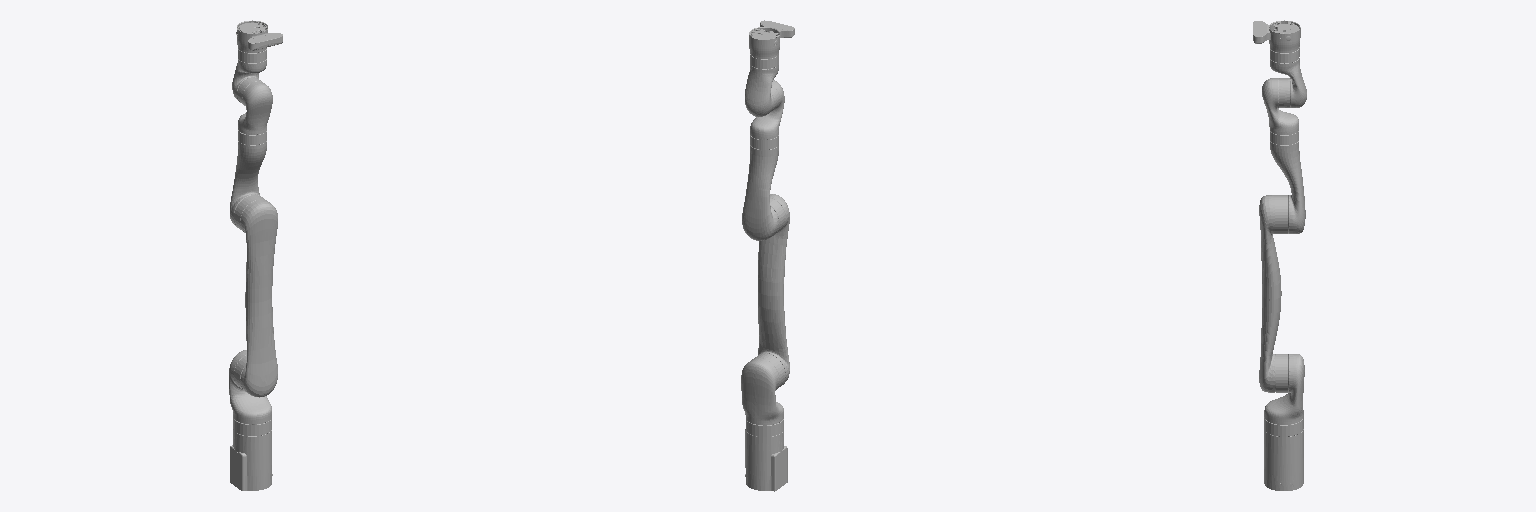
URDF robot description (GEN3-6DOF_VISION_URDF_ARM_V01):
<robot name="GEN3-6DOF_VISION_URDF_ARM_V01" version="1.0">
  <link name="base_link">
    <inertial>
      <origin xyz="-0.000648 -0.000166 0.084487" rpy="0 0 0" />
      <mass value="1.697" />
      <inertia ixx="0.004622" ixy="9E-06" ixz="6E-05" iyy="0.004495" iyz="9E-06" izz="0.002079" />
    </inertial>
    <visual>
      <origin xyz="0 0 0" rpy="0 0 0" />
      <geometry>
        <mesh filename="../meshes/base_link.obj" />
      </geometry>
      <material name="">
        <color rgba="0.75294 0.75294 0.75294 1" />
      </material>
    </visual>
    <collision>
      <origin xyz="0 0 0" rpy="0 0 0" />
      <geometry>
        <mesh filename="../meshes/base_link.obj" />
      </geometry>
    </collision>
  </link>
  <link name="shoulder_link">
    <inertial>
      <origin xyz="-2.3E-05 -0.010364 -0.07336" rpy="0 0 0" />
      <mass value="1.377" />
      <inertia ixx="0.00457" ixy="1E-06" ixz="2E-06" iyy="0.004831" iyz="0.000448" izz="0.001409" />
    </inertial>
    <visual>
      <origin xyz="0 0 0" rpy="0 0 0" />
      <geometry>
        <mesh filename="../meshes/shoulder_link.obj" />
      </geometry>
      <material name="">
        <color rgba="0.75294 0.75294 0.75294 1" />
      </material>
    </visual>
    <collision>
      <origin xyz="0 0 0" rpy="0 0 0" />
      <geometry>
        <mesh filename="../meshes/shoulder_link.obj" />
      </geometry>
    </collision>
  </link>
  <joint name="Actuator1" type="continuous">
    <origin xyz="0 0 0.15643" rpy="-3.1416 0.0 0.0" />
    <parent link="base_link" />
    <child link="shoulder_link" />
    <axis xyz="0 0 1" />
    <limit effort="39" velocity="0.8727" />
  </joint>
  <link name="bicep_link">
    <inertial>
      <origin xyz="3.5E-05 -0.208207 -0.01889" rpy="0 0 0" />
      <mass value="1.262" />
      <inertia ixx="0.046752" ixy="-9E-06" ixz="0" iyy="0.00085" iyz="-9.8E-05" izz="0.047188" />
    </inertial>
    <visual>
      <origin xyz="0 0 0" rpy="0 0 0" />
      <geometry>
        <mesh filename="../meshes/bicep_link.obj" />
      </geometry>
      <material name="">
        <color rgba="0.75294 0.75294 0.75294 1" />
      </material>
    </visual>
    <collision>
      <origin xyz="0 0 0" rpy="0 0 0" />
      <geometry>
        <mesh filename="../meshes/bicep_link.obj" />
      </geometry>
    </collision>
  </link>
  <joint name="Actuator2" type="revolute">
    <origin xyz="0 0.005375 -0.12838" rpy="1.5708 0.0 0.0" />
    <parent link="shoulder_link" />
    <child link="bicep_link" />
    <axis xyz="0 0 1" />
    <limit lower="-2.41" upper="2.41" effort="39" velocity="0.8727" />
  </joint>
  <link name="forearm_link">
    <inertial>
      <origin xyz="1.8E-05 0.076168 -0.01397" rpy="0 0 0" />
      <mass value="0.93" />
      <inertia ixx="0.008292" ixy="-1E-06" ixz="0" iyy="0.000628" iyz="0.000432" izz="0.008464" />
    </inertial>
    <visual>
      <origin xyz="0 0 0" rpy="0 0 0" />
      <geometry>
        <mesh filename="../meshes/forearm_link.obj" />
      </geometry>
      <material name="">
        <color rgba="0.75294 0.75294 0.75294 1" />
      </material>
    </visual>
    <collision>
      <origin xyz="0 0 0" rpy="0 0 0" />
      <geometry>
        <mesh filename="../meshes/forearm_link.obj" />
      </geometry>
    </collision>
  </link>
  <joint name="Actuator3" type="revolute">
    <origin xyz="0 -0.41 0" rpy="3.1416 0 0" />
    <parent link="bicep_link" />
    <child link="forearm_link" />
    <axis xyz="0 0 1" />
    <limit lower="-2.66" upper="2.66" effort="39" velocity="0.8727" />
  </joint>
  <link name="spherical_wrist_1_link">
    <inertial>
      <origin xyz="-1E-06 0.008486 -0.062937" rpy="0 0 0" />
      <mass value="0.6781" />
      <inertia ixx="0.001645" ixy="0" ixz="0" iyy="0.001666" iyz="-0.000234" izz="0.000389" />
    </inertial>
    <visual>
      <origin xyz="0 0 0" rpy="0 0 0" />
      <geometry>
        <mesh filename="../meshes/spherical_wrist_1_link.obj" />
      </geometry>
      <material name="">
        <color rgba="0.75294 0.75294 0.75294 1" />
      </material>
    </visual>
    <collision>
      <origin xyz="0 0 0" rpy="0 0 0" />
      <geometry>
        <mesh filename="../meshes/spherical_wrist_1_link.obj" />
      </geometry>
    </collision>
  </link>
  <joint name="Actuator4" type="continuous">
    <origin xyz="0 0.20843 -0.006375" rpy="1.5708 0.0 0.0" />
    <parent link="forearm_link" />
    <child link="spherical_wrist_1_link" />
    <axis xyz="0 0 1" />
    <limit effort="9" velocity="0.8727" />
  </joint>
  <link name="spherical_wrist_2_link">
    <inertial>
      <origin xyz="-1E-06 0.046429 -0.008704" rpy="0 0 0" />
      <mass value="0.678" />
      <inertia ixx="0.001685" ixy="0" ixz="0" iyy="0.0004" iyz="0.000255" izz="0.001696" />
    </inertial>
    <visual>
      <origin xyz="0 0 0" rpy="0 0 0" />
      <geometry>
        <mesh filename="../meshes/spherical_wrist_2_link.obj" />
      </geometry>
      <material name="">
        <color rgba="0.75294 0.75294 0.75294 1" />
      </material>
    </visual>
    <collision>
      <origin xyz="0 0 0" rpy="0 0 0" />
      <geometry>
        <mesh filename="../meshes/spherical_wrist_2_link.obj" />
      </geometry>
    </collision>
  </link>
  <joint name="Actuator5" type="revolute">
    <origin xyz="0 -0.00017505 -0.10593" rpy="-1.5708 0.0 0.0" />
    <parent link="spherical_wrist_1_link" />
    <child link="spherical_wrist_2_link" />
    <axis xyz="0 0 1" />
    <limit lower="-2.23" upper="2.23" effort="9" velocity="0.8727" />
  </joint>
  <link name="bracelet_with_vision_link">
    <inertial>
      <origin xyz="0.000281 0.011402 -0.029798" rpy="0 0 0" />
      <mass value="0.5" />
      <inertia ixx="0.000587" ixy="3E-06" ixz="3E-06" iyy="0.000369" iyz="-0.000118" izz="0.000609" />
    </inertial>
    <visual>
      <origin xyz="0 0 0" rpy="0 0 0" />
      <geometry>
        <mesh filename="../meshes/bracelet_with_vision_link.obj" />
      </geometry>
      <material name="">
        <color rgba="0.75294 0.75294 0.75294 1" />
      </material>
    </visual>
    <collision>
      <origin xyz="0 0 0" rpy="0 0 0" />
      <geometry>
        <mesh filename="../meshes/bracelet_with_vision_link.obj" />
      </geometry>
    </collision>
  </link>
  <joint name="Actuator6" type="continuous">
    <origin xyz="0 0.10593 -0.00017505" rpy="1.5708 0.0 0.0" />
    <parent link="spherical_wrist_2_link" />
    <child link="bracelet_with_vision_link" />
    <axis xyz="0 0 1" />
    <limit effort="9" velocity="0.8727" />
  </joint>
  <link name="end_effector_link" />
    <!-- <inertial>
      <origin xyz="0 0 0" rpy="0 0 0" />
      <mass value="0" />
      <inertia ixx="0" ixy="0" ixz="0" iyy="0" iyz="0" izz="0" />
    </inertial>
    <visual>
      <origin xyz="0 0 0" rpy="0 0 0" />
      <geometry>
        <mesh filename="package://kortex_description/arms/gen3/6dof/meshes/EndEffector_Link.STL" />
      </geometry>
      <material name="">
        <color rgba="0.75294 0.75294 0.75294 1" />
      </material>
    </visual>
    <collision>
      <origin xyz="0 0 0" rpy="0 0 0" />
      <geometry>
        <mesh filename="package://kortex_description/arms/gen3/6dof/meshes/EndEffector_Link.STL" />
      </geometry>
    </collision>
  </link> -->
  <joint name="EndEffector" type="fixed">
    <origin xyz="0 0 -0.061525" rpy="3.1416 0 -3.1416" />
    <parent link="bracelet_with_vision_link" />
    <child link="end_effector_link" />
    <axis xyz="0 0 0" />
  </joint>

  <!-- Insert Transmission Tags -->
  <transmission name="Actuator1_transmission" >
        <type>transmission_interface/SimpleTransmission</type>
        <joint name="Actuator1" />
        <actuator name="motor_1" />
    </transmission>
    <transmission name="Actuator2_transmission" >
        <type>transmission_interface/SimpleTransmission</type>
        <joint name="Actuator2" />
        <actuator name="motor_2" />
    </transmission>
    <transmission name="Actuator3_transmission" >
        <type>transmission_interface/SimpleTransmission</type>
        <joint name="Actuator3" />
        <actuator name="motor_3" />
    </transmission>
    <transmission name="Actuator4_transmission" >
        <type>transmission_interface/SimpleTransmission</type>
        <joint name="Actuator4" />
        <actuator name="motor_4" />
    </transmission>
    <transmission name="Actuator5_transmission" >
        <type>transmission_interface/SimpleTransmission</type>
        <joint name="Actuator5" />
        <actuator name="motor_5" />
    </transmission>
    <transmission name="Actuator6_transmission" >
        <type>transmission_interface/SimpleTransmission</type>
        <joint name="Actuator6" />
        <actuator name="motor_6" />
    </transmission>
</robot>

--- Facts derived from the render (not from the file) ---
Views: 3 orthographic renders of the robot side by side, from view 1: azimuth 30°, elevation 25°; view 2: azimuth 150°, elevation 25°; view 3: azimuth 270°, elevation 25°.
Model GEN3-6DOF_VISION_URDF_ARM_V01 with 8 links and 7 joints (3 revolute, 3 continuous, 1 fixed), rooted at base_link, posed all joints at 0.
Visible links, largest first — view 1: bicep_link, base_link, forearm_link, shoulder_link, spherical_wrist_1_link, bracelet_with_vision_link, spherical_wrist_2_link; view 2: bicep_link, forearm_link, base_link, shoulder_link, spherical_wrist_2_link, bracelet_with_vision_link, spherical_wrist_1_link; view 3: bicep_link, base_link, shoulder_link, forearm_link, spherical_wrist_1_link, bracelet_with_vision_link, spherical_wrist_2_link.
Boxes of the visible links, x1,y1,x2,y2 form: bicep_link: (234,195,277,397); base_link: (230,418,272,490); forearm_link: (230,130,266,227); shoulder_link: (229,350,271,424); spherical_wrist_1_link: (237,77,272,134); bracelet_with_vision_link: (236,20,282,52); spherical_wrist_2_link: (232,49,266,101); bicep_link: (758,194,789,384); forearm_link: (742,135,778,240); base_link: (745,419,787,491); shoulder_link: (741,353,785,425); spherical_wrist_2_link: (745,54,778,116); bracelet_with_vision_link: (749,20,794,58); spherical_wrist_1_link: (750,80,784,139); bicep_link: (1259,195,1287,392); base_link: (1264,417,1303,490); shoulder_link: (1264,354,1304,424); forearm_link: (1270,131,1305,233); spherical_wrist_1_link: (1262,78,1298,134); bracelet_with_vision_link: (1253,20,1300,52); spherical_wrist_2_link: (1270,47,1306,107).
Size in the robot's own frame: 0.0928 by 0.1278 by 1.18 metres.
7 mesh visuals loaded from 7 distinct referenced files (7 OBJ).